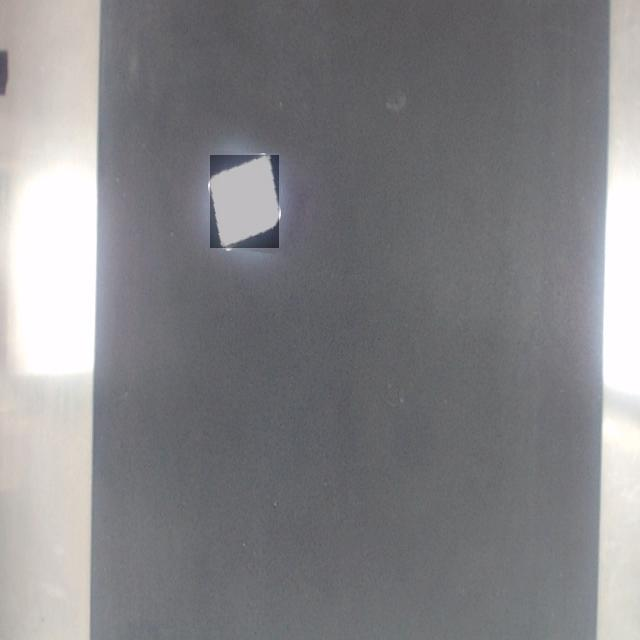Blanco: (210, 155, 279, 248)
